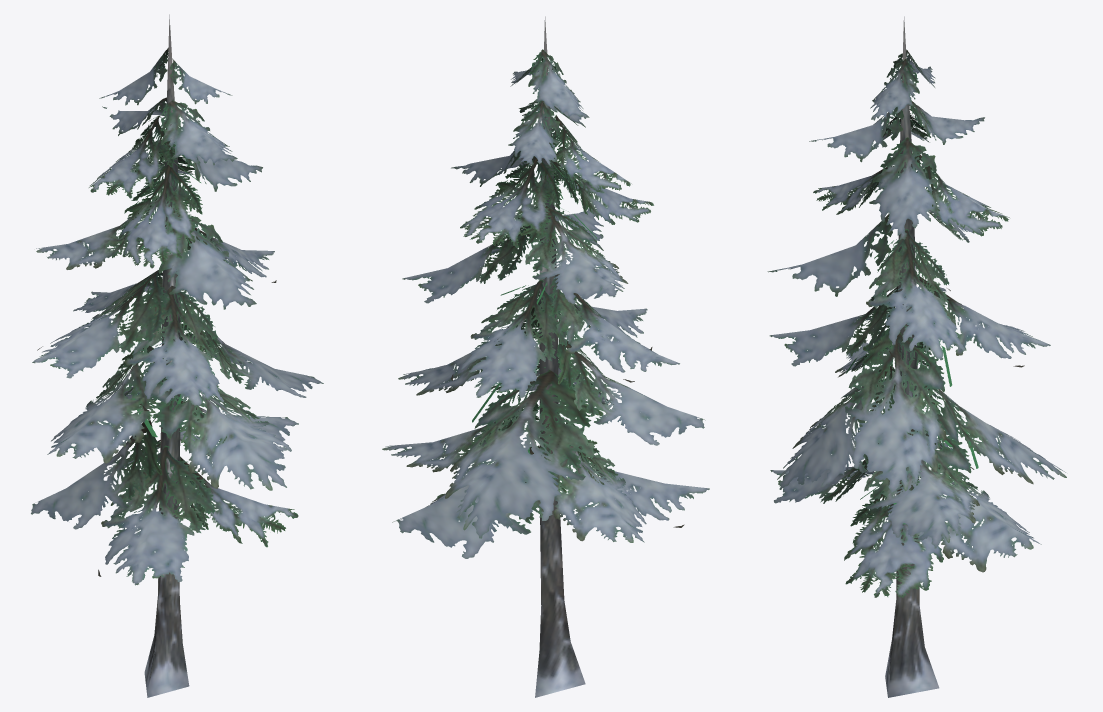
Rendered from rzjd_xuehsu_01.FBX.
3 views of the same model, side by side, from view 1: azimuth 30°, elevation 25°; view 2: azimuth 150°, elevation 25°; view 3: azimuth 270°, elevation 25° (orthographic).
Parts seen in each view (by area): view 1: rzjd_xuehsu_01; view 2: rzjd_xuehsu_01; view 3: rzjd_xuehsu_01.
Part boxes in pixels (left/top/right/bottom): rzjd_xuehsu_01: left=31, top=14, right=323, bottom=697; rzjd_xuehsu_01: left=382, top=16, right=709, bottom=697; rzjd_xuehsu_01: left=767, top=16, right=1066, bottom=697.
Size of the model in its own units: 300 by 606 by 274.
